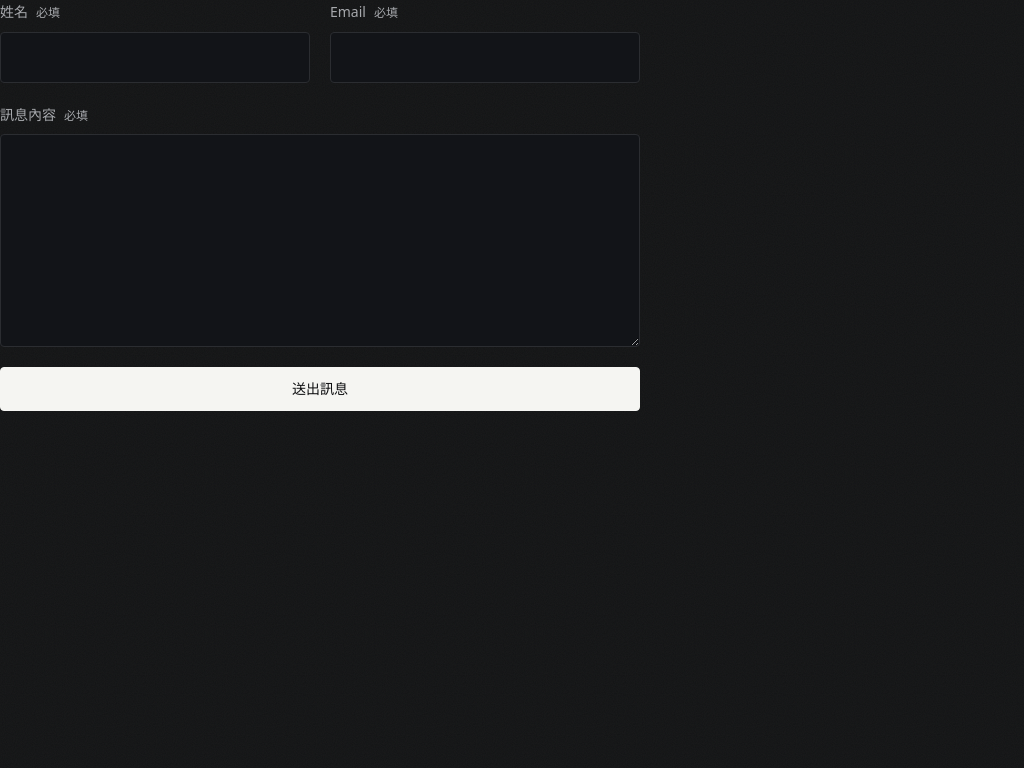
Test: ContactForm › summarises a server rejection in an alert that takes focus and links to each field
The width and height of the screenshot is (1024, 768).
Type "Ada" into the field labelled "姓名 必填" at (155, 57), box [0,32,310,83]
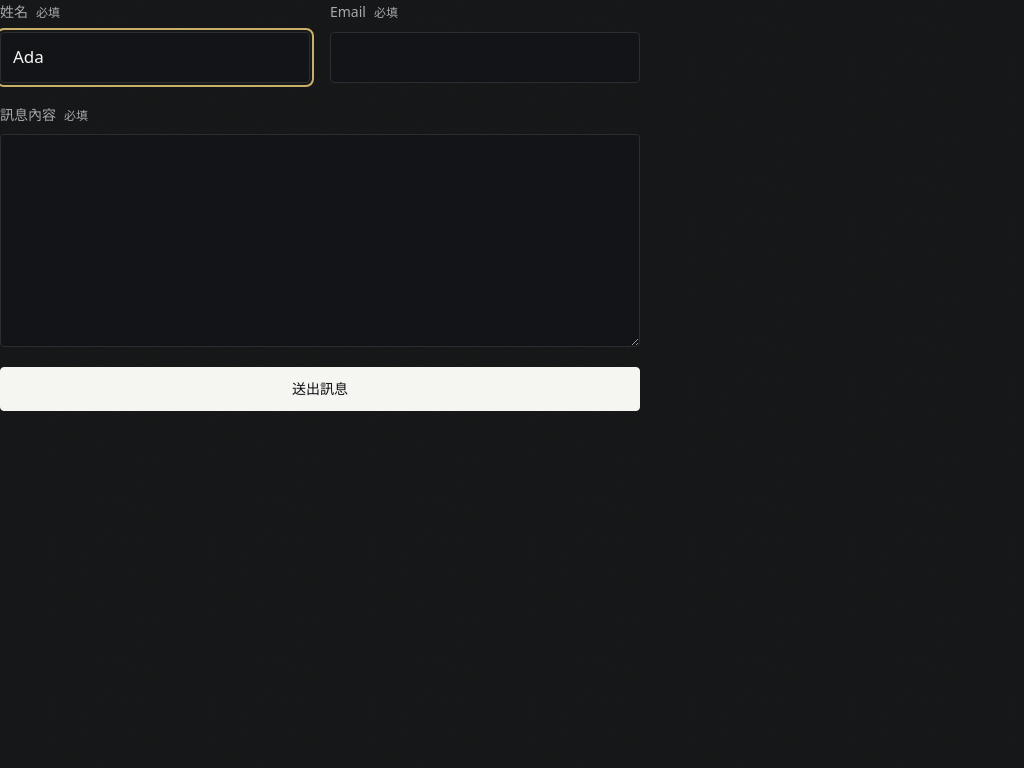
Type "ada@example.com" into the field labelled "Email 必填" at (485, 57), box [330,32,640,83]
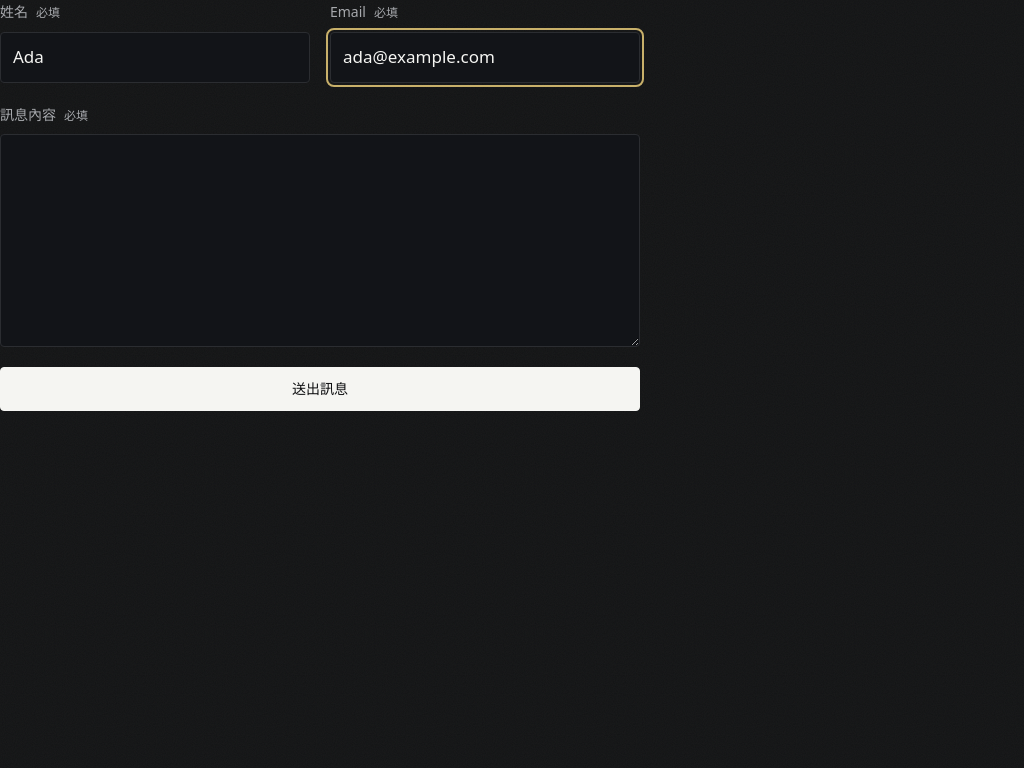
Type "I would like to talk about the search project." into the text box labelled "訊息內容 必填" at (320, 241), box [0,134,640,347]
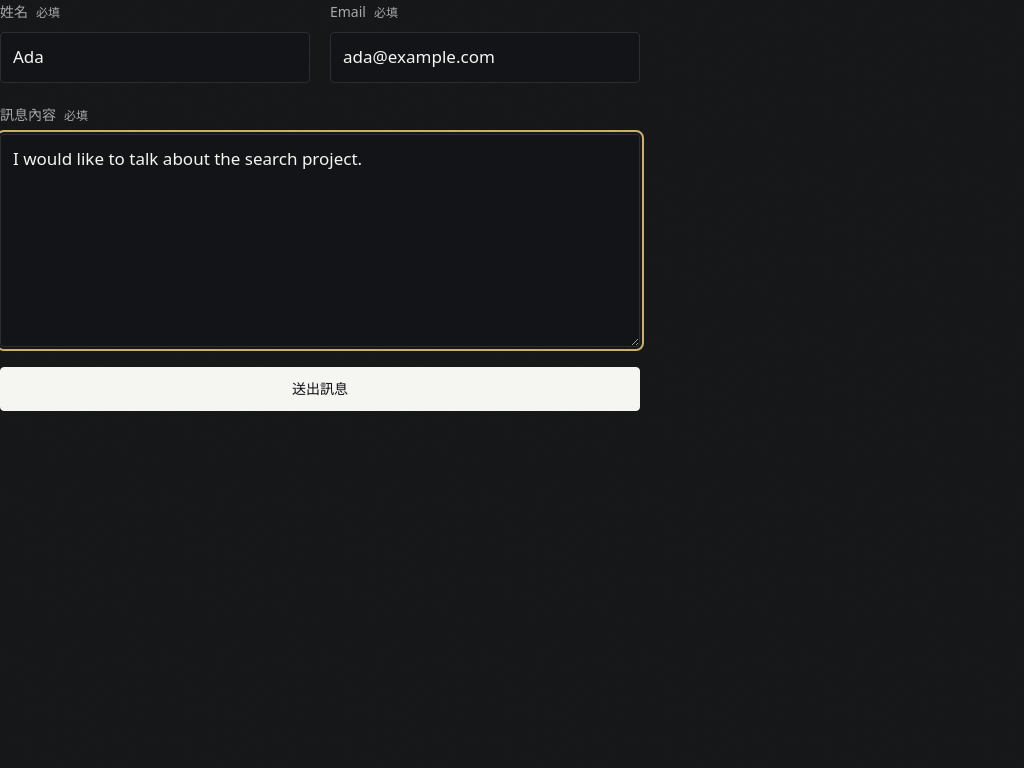
Click the button "送出訊息" at (320, 389), box [0,367,640,411]
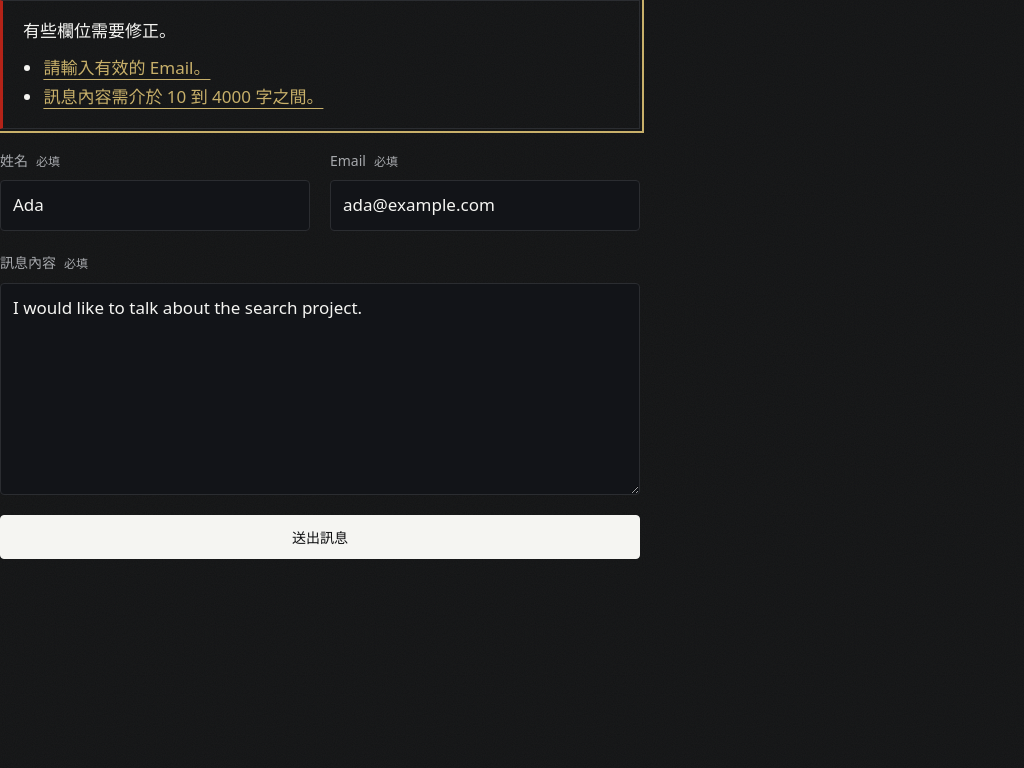
Now the message shows "有些欄位需要修正。", box [23,19,176,42]
Now the link "訊息內容需介於 10 到 4000 字之間。" is shown, box [43,85,323,108]
